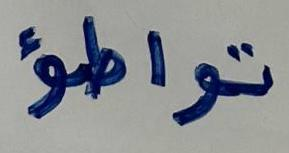alef: (137, 18, 173, 103)
tah: (75, 11, 131, 108)
teh: (224, 23, 279, 114)
waw: (10, 14, 72, 136), (175, 44, 222, 137)
